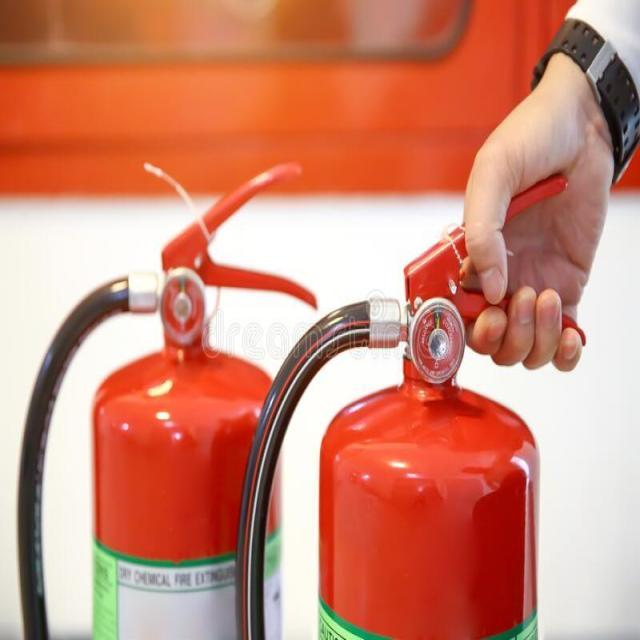fire_extinguisher: (232, 168, 589, 639), (10, 154, 318, 638)
